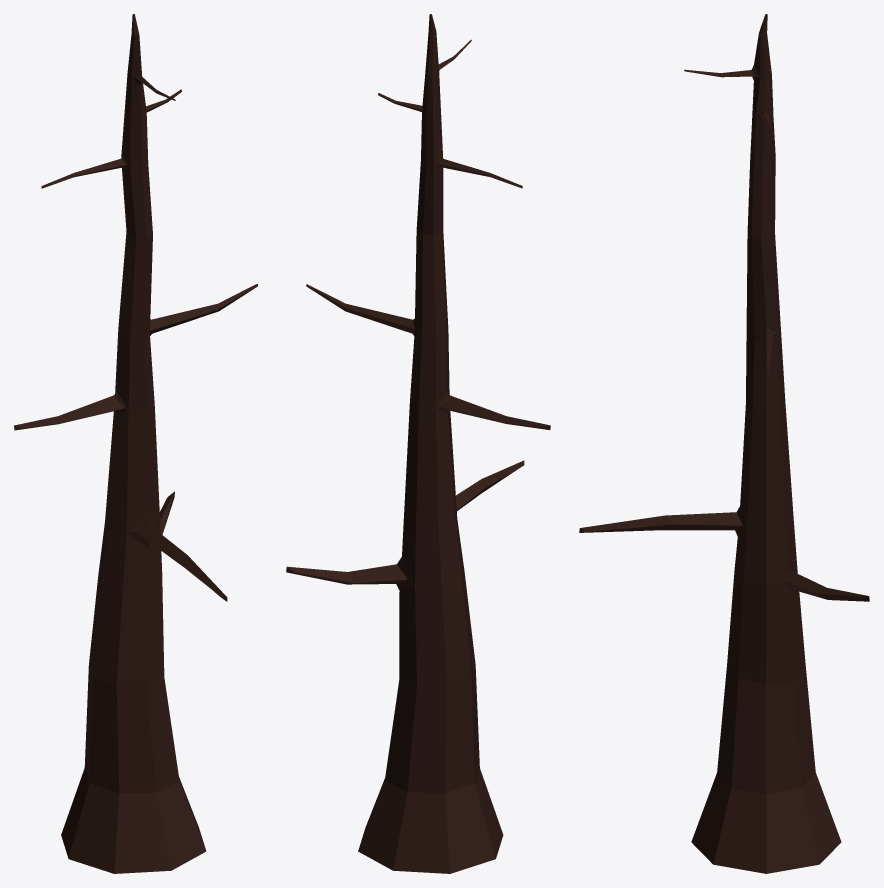
File: ArvoreSeca.fbx
3 renders of one model, left to right at view 1: azimuth 30°, elevation 25°; view 2: azimuth 150°, elevation 25°; view 3: azimuth 270°, elevation 25°, orthographic.
Visible parts, largest first — view 1: ArvoreSeca; view 2: ArvoreSeca; view 3: ArvoreSeca.
Part boxes in pixels (x1,y1,x2,y2): ArvoreSeca: [14, 14, 257, 873]; ArvoreSeca: [286, 14, 550, 873]; ArvoreSeca: [579, 14, 869, 873].
Bounding box in the file's own units: 118 × 383 × 122.
